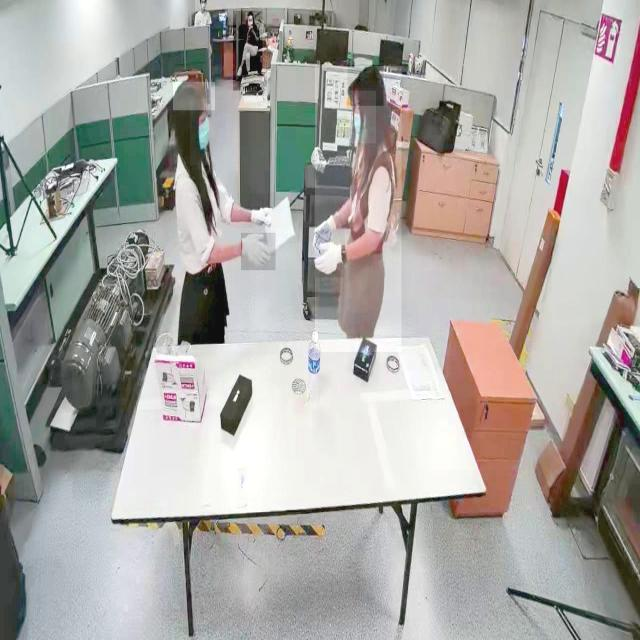face_mask: (190, 99, 214, 165), (350, 91, 376, 143), (246, 16, 252, 28)
hand_glove: (314, 228, 344, 278), (240, 233, 276, 271), (312, 204, 336, 256), (250, 193, 282, 228)
head_nohelmet: (347, 65, 383, 107), (173, 82, 215, 110), (245, 12, 252, 20)
person: (314, 66, 402, 353), (162, 76, 250, 358), (232, 10, 262, 91)
